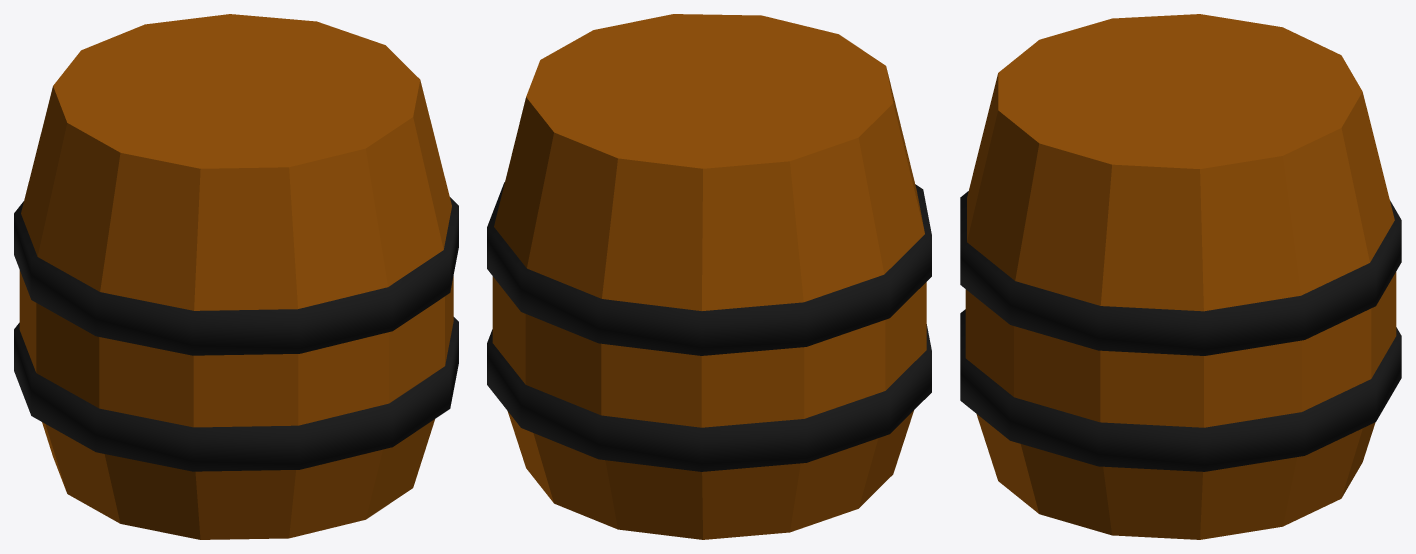
Rendered from Beczka v3.fbx.
3 views of the same model, side by side, from view 1: azimuth 30°, elevation 25°; view 2: azimuth 150°, elevation 25°; view 3: azimuth 270°, elevation 25° (orthographic).
Visible parts, largest first — view 1: Cylinder; view 2: Cylinder; view 3: Cylinder.
Part boxes in pixels (x1,y1,x2,y2): Cylinder: [14, 14, 458, 539]; Cylinder: [487, 14, 931, 539]; Cylinder: [960, 14, 1401, 539].
Bounding box in the file's own units: 240 × 221 × 239.
